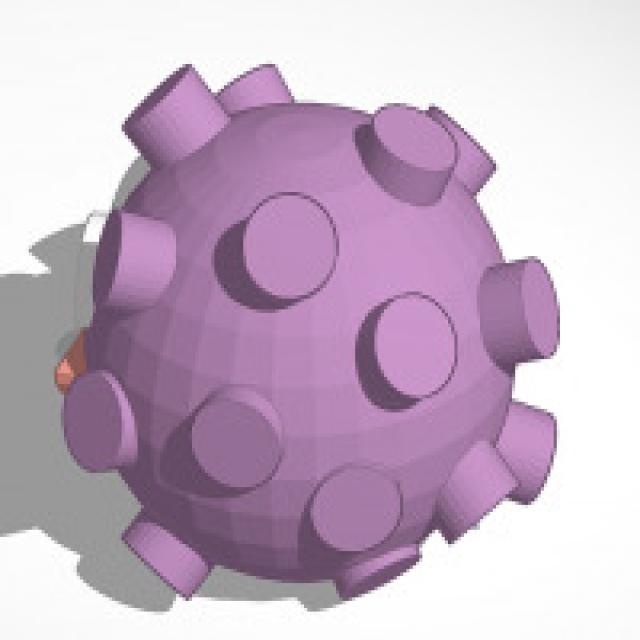Koffing: (70, 93, 561, 598)
